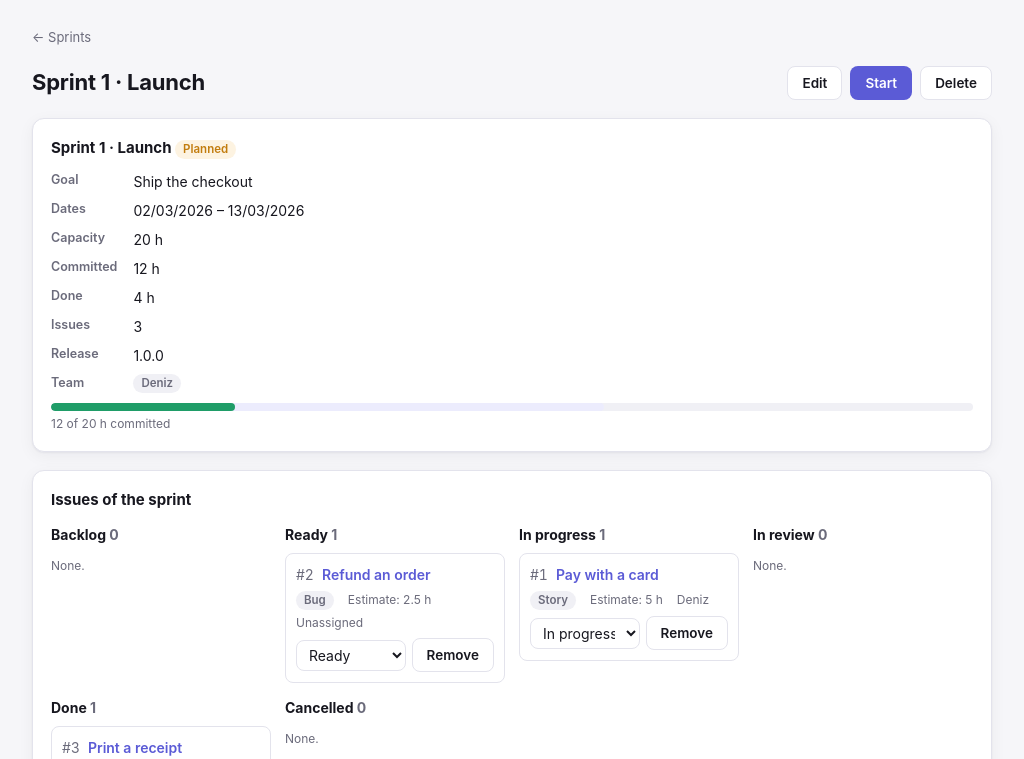
Test: the sprint page: start and delete › shows why it cannot start (status)
This screenshot has width=1024, height=759.
Click the button "Start" at (881, 82), box x1=850 y1=66 x2=912 y2=100
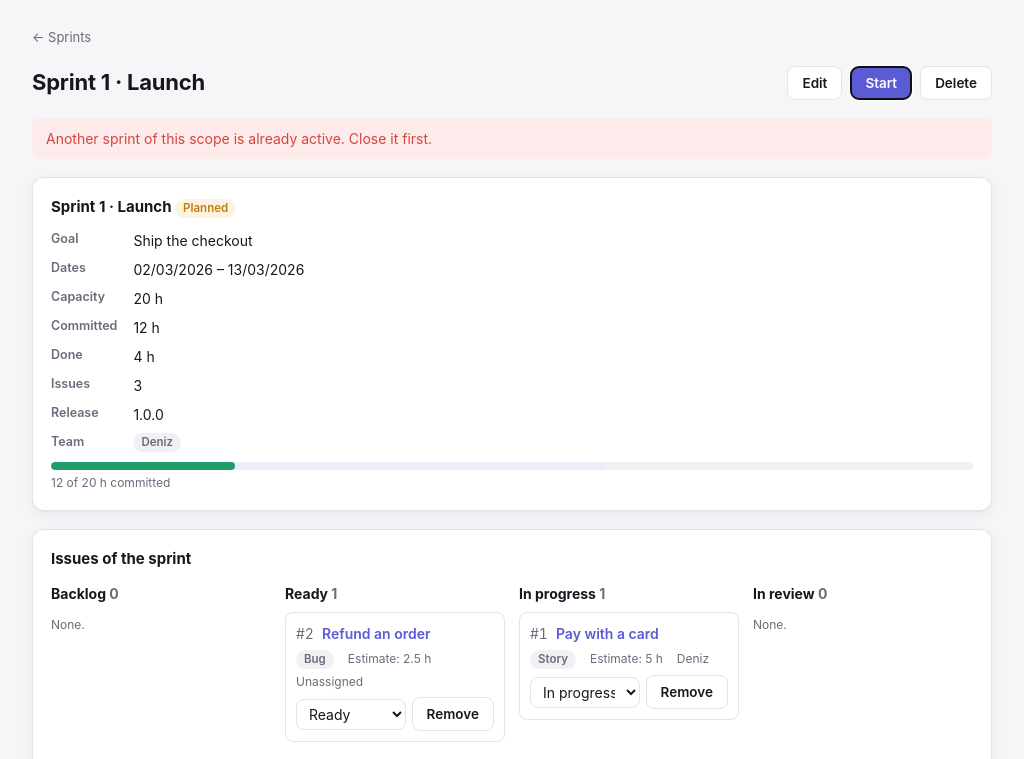
Result: the text "Another sprint of this scope is already active. Close it first." is shown at x1=32 y1=118 x2=992 y2=158
